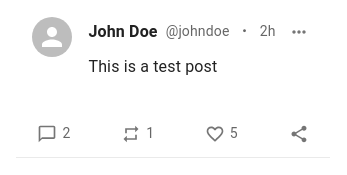
Test: ポストカード › メニューボタンをクリックするとメニューが開く
Click the button with test id "MoreHorizIcon": click(299, 32) [284,16,314,46]
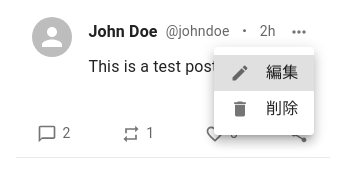
Expected: the text "編集" is shown, [266,61,298,85]
Expected: the text "削除" is shown, [266,97,298,121]
